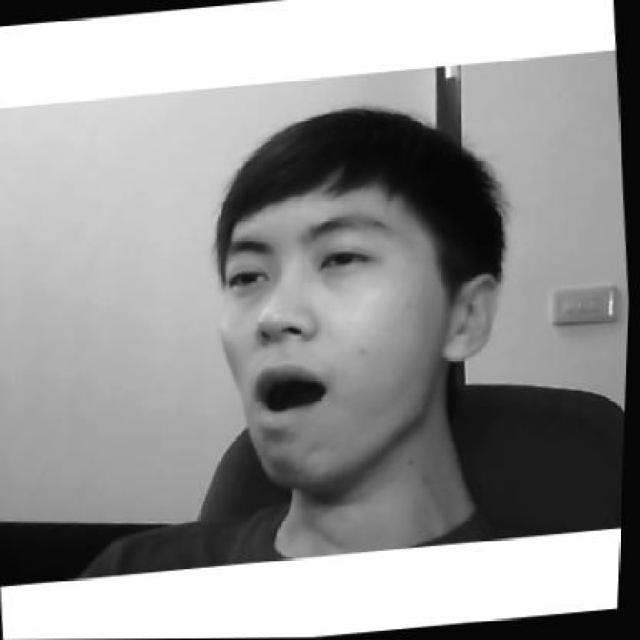inattentif: (195, 96, 523, 498)
